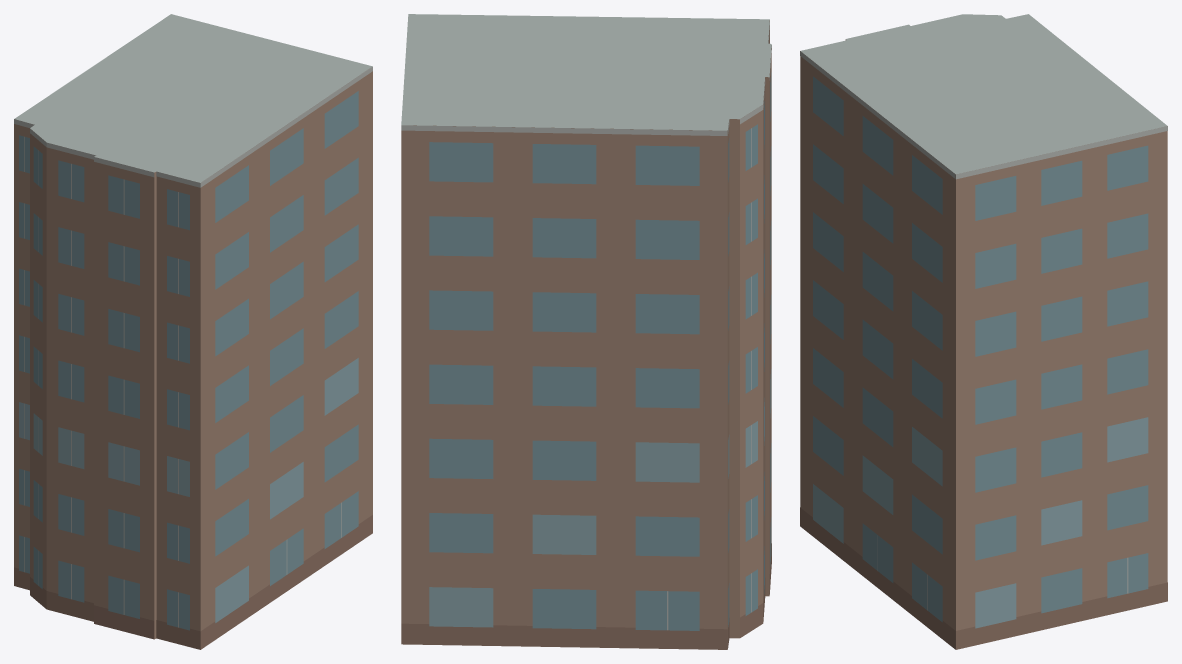
File: survey-upis-32899392.glb
3 renders of one model, left to right at view 1: azimuth 30°, elevation 25°; view 2: azimuth 150°, elevation 25°; view 3: azimuth 270°, elevation 25°, orthographic. The views are drawn at different scales.
Visible parts, largest first — view 1: survey-upis-32899392.tmp; view 2: survey-upis-32899392.tmp; view 3: survey-upis-32899392.tmp.
Boxes of the visible parts, x1=… form: survey-upis-32899392.tmp: x1=14, y1=14, x2=372, y2=649; survey-upis-32899392.tmp: x1=401, y1=14, x2=771, y2=649; survey-upis-32899392.tmp: x1=800, y1=14, x2=1167, y2=649.
Bounding box in the file's own units: 17.02 × 23.5 × 16.48.
